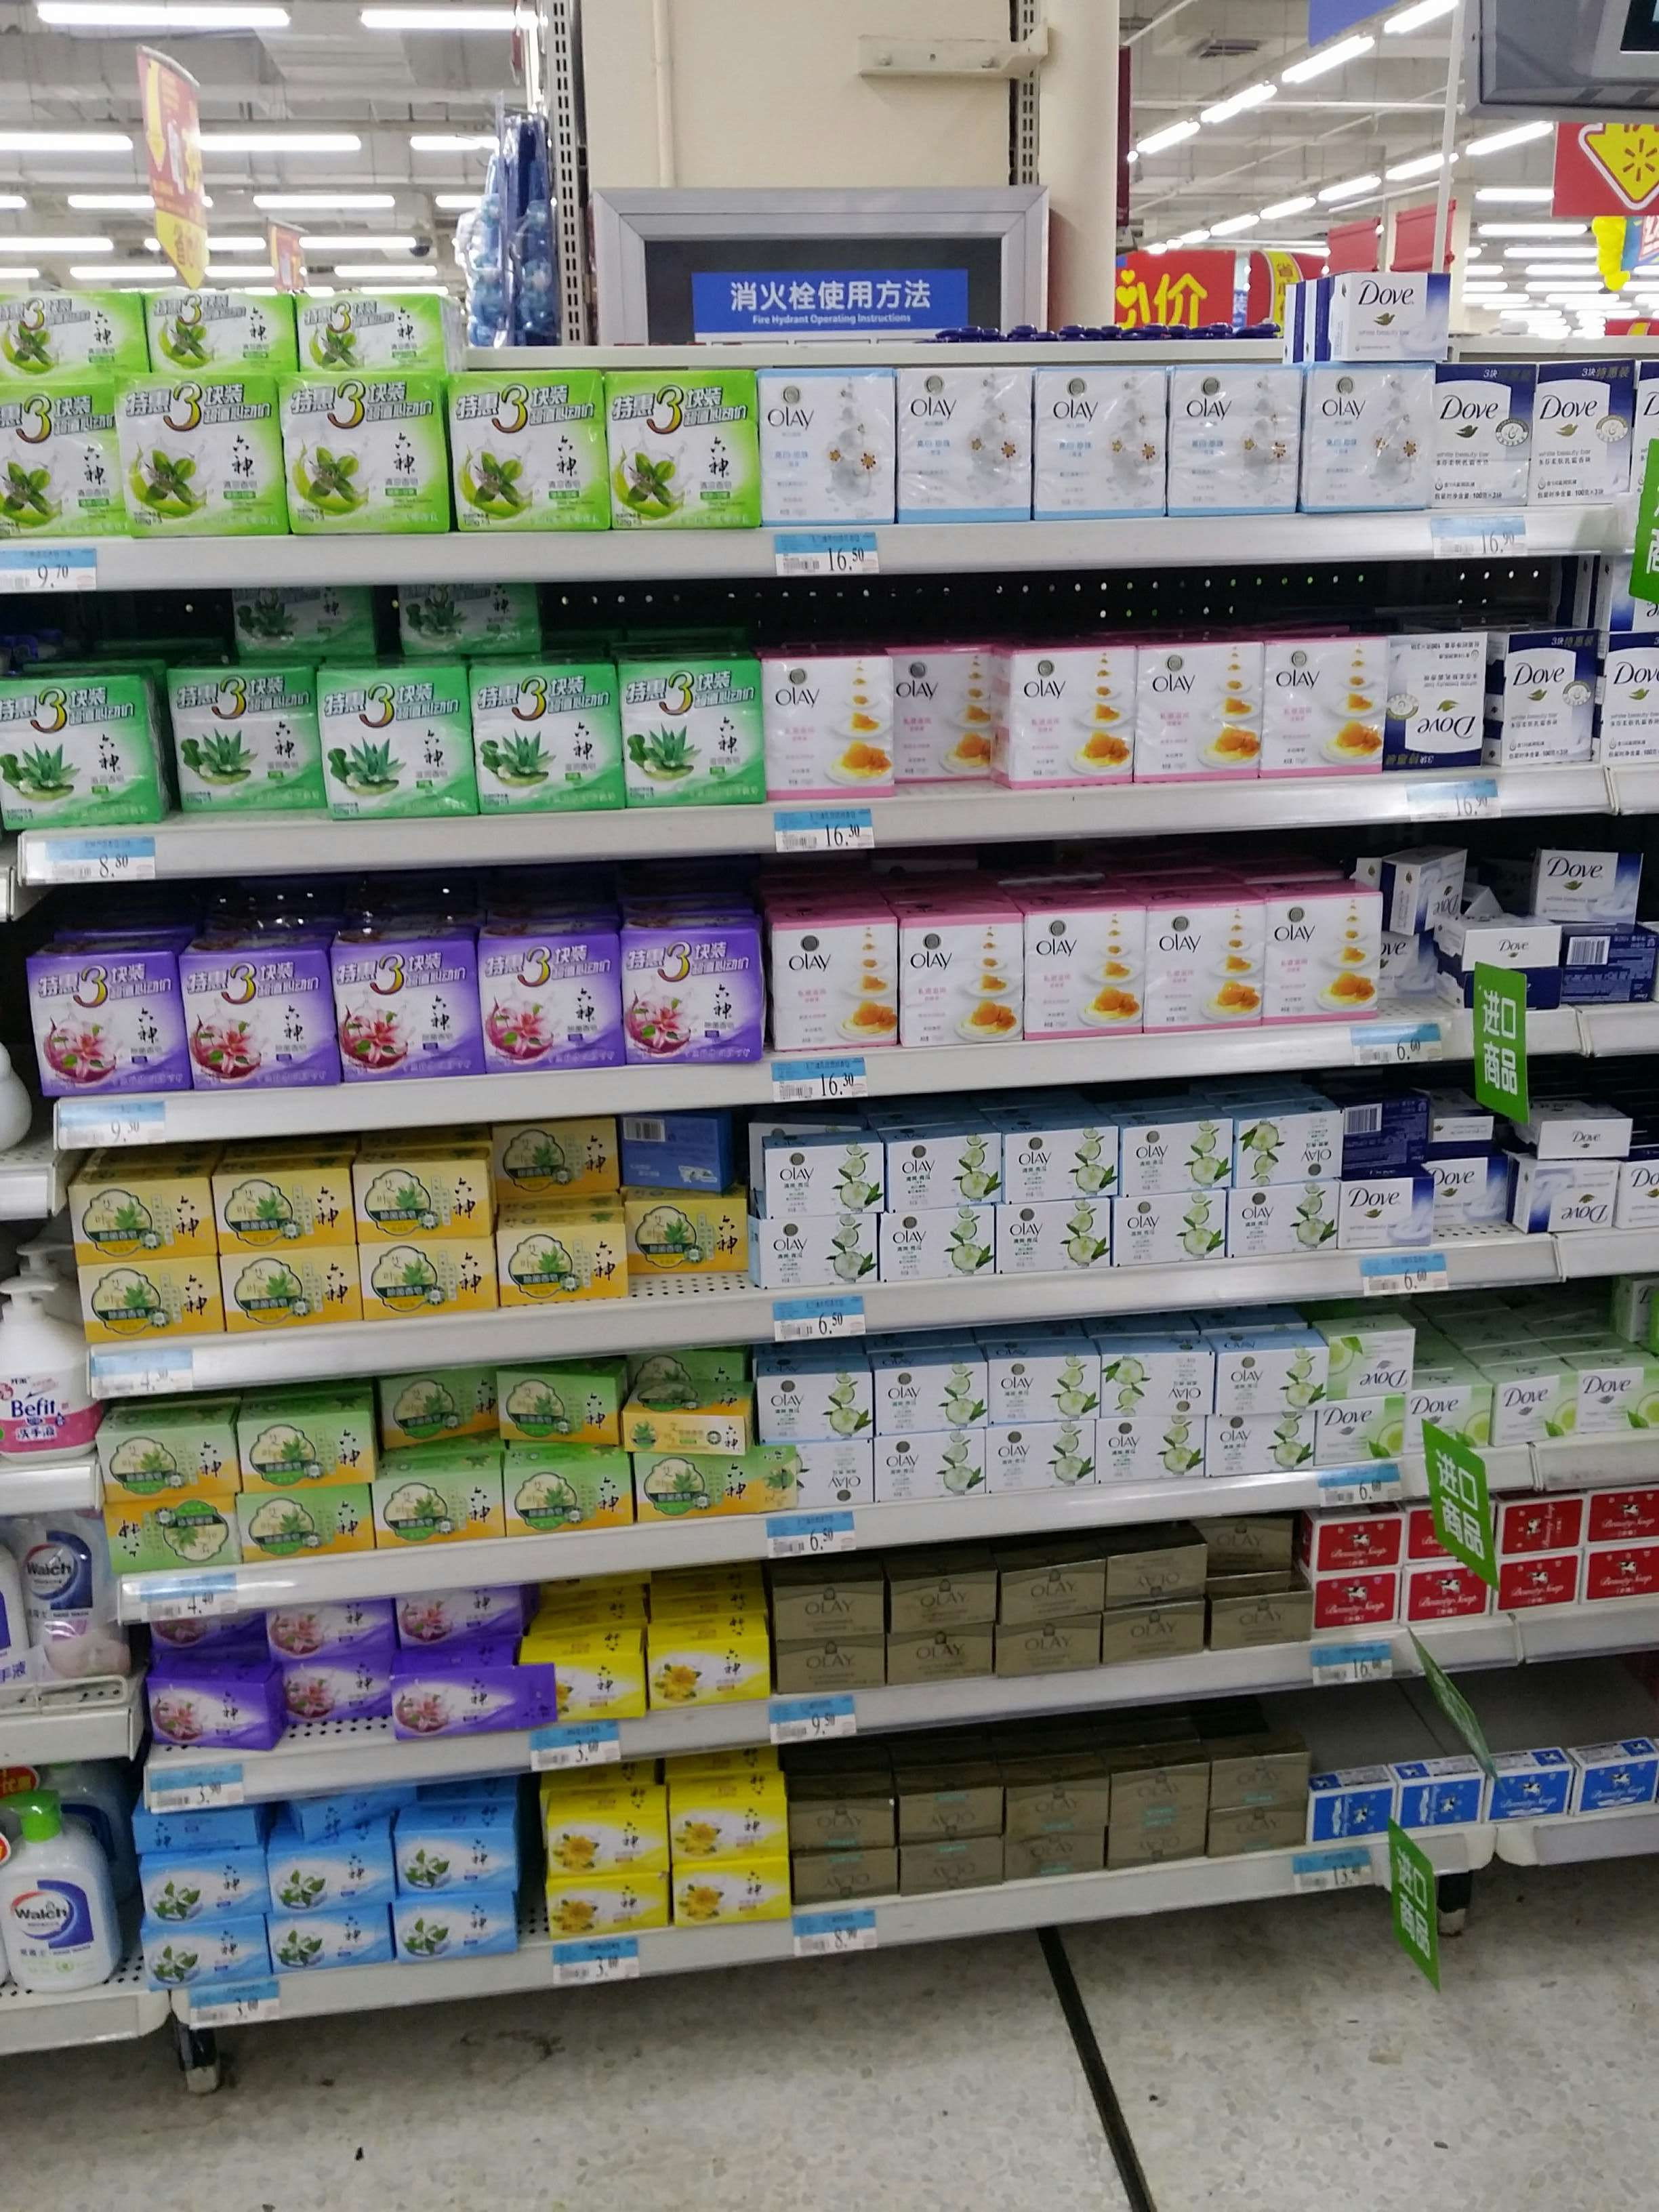Misplacement: (173, 657, 317, 826)
